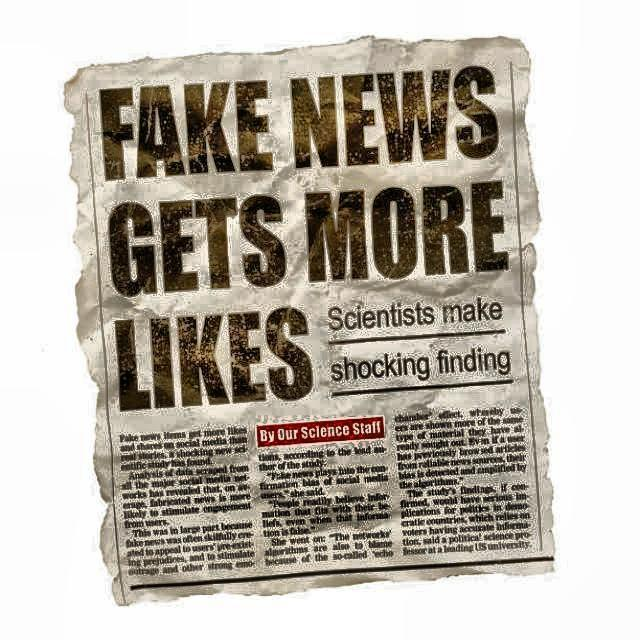cardboard: (63, 36, 558, 608)
